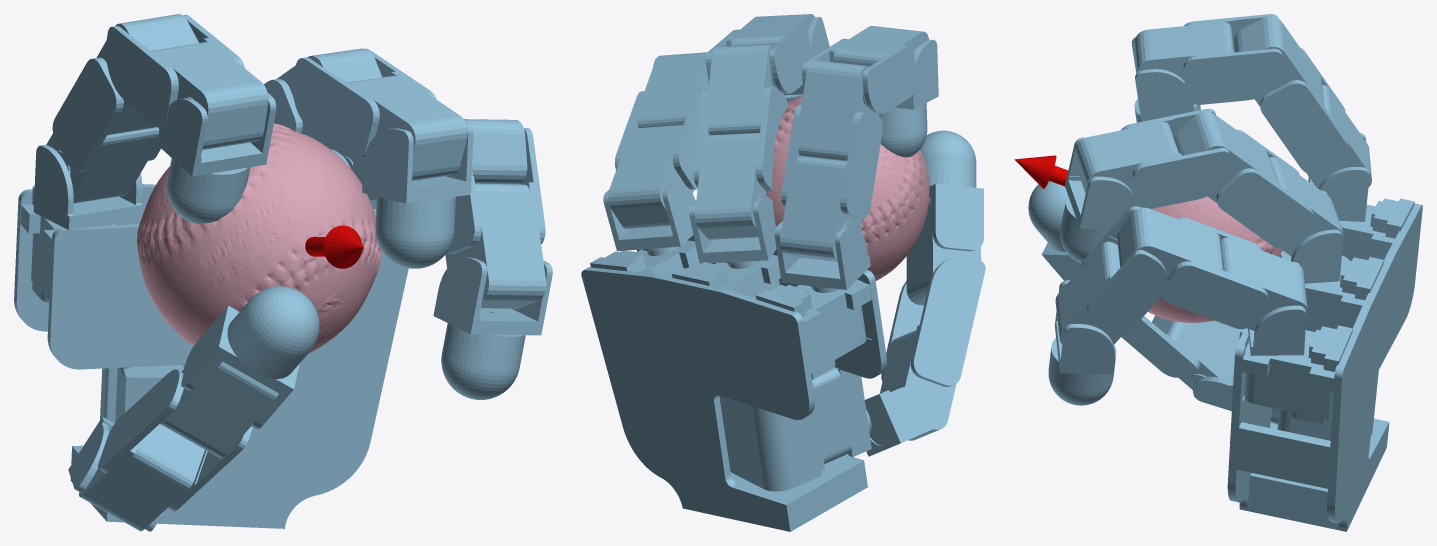
3 renders of one model, left to right at view 1: azimuth 30°, elevation 25°; view 2: azimuth 150°, elevation 25°; view 3: azimuth 270°, elevation 25°, orthographic. The views are drawn at different scales.
Visible parts, largest first — view 1: world, baseball.stl; view 2: world, baseball.stl; view 3: world, baseball.stl.
Part boxes in pixels (x1=…): world: x1=14, y1=14, x2=552, y2=531; baseball.stl: x1=136, y1=123, x2=381, y2=353; world: x1=581, y1=14, x2=985, y2=531; baseball.stl: x1=766, y1=97, x2=929, y2=280; world: x1=1014, y1=14, x2=1422, y2=531; baseball.stl: x1=1148, y1=196, x2=1282, y2=322.
Bounding box in the file's own units: 0.1405 × 0.1804 × 0.1498.
